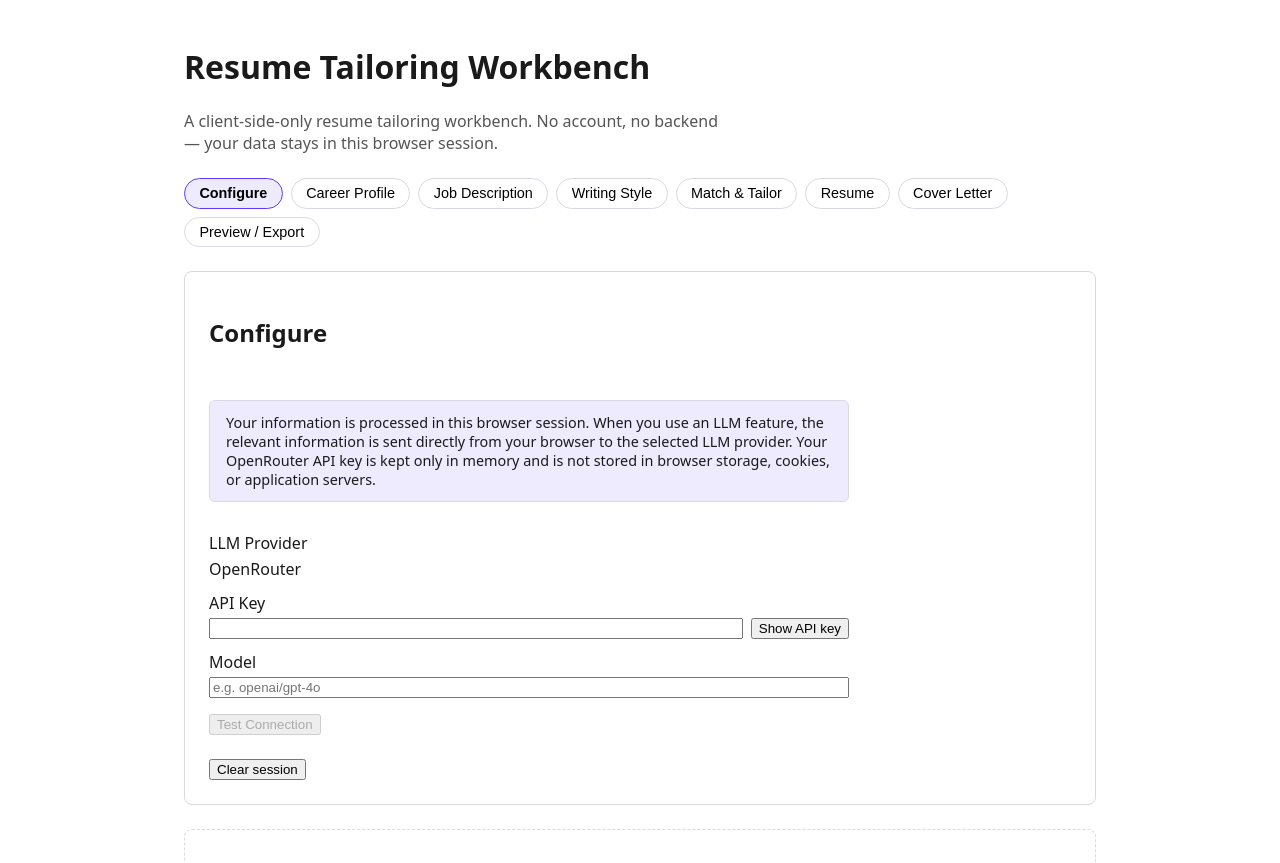
Scenario: Error handling and recovery (Stage 15) › Job Description generation: a network failure shows a useful message and Retry, without an Update API Key action
Click the button "Configure" at (233, 193), box top-left (184, 178), bottom-right (283, 209)
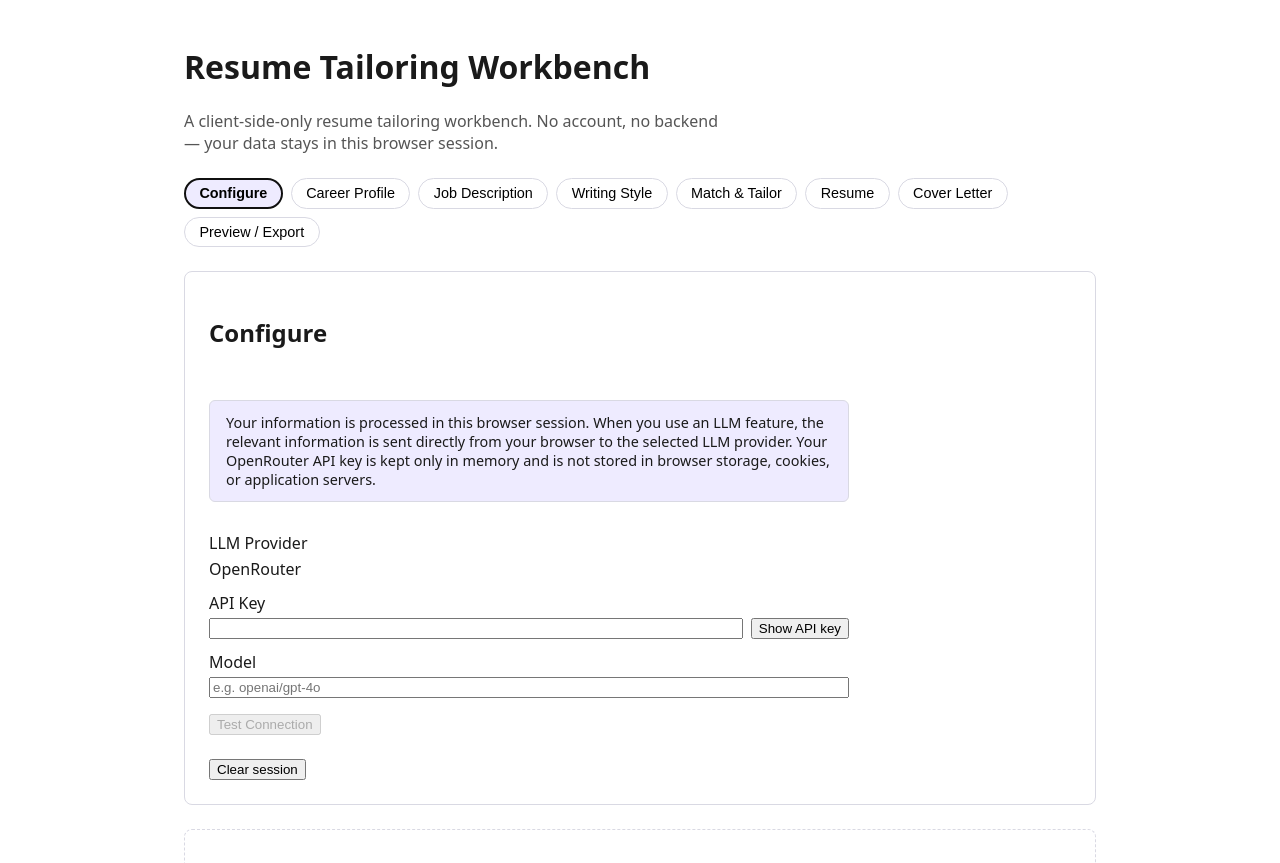
Type "sk-test-super-secret-key-value" into the password field labelled "API Key" at (476, 628), box top-left (209, 618), bottom-right (743, 639)
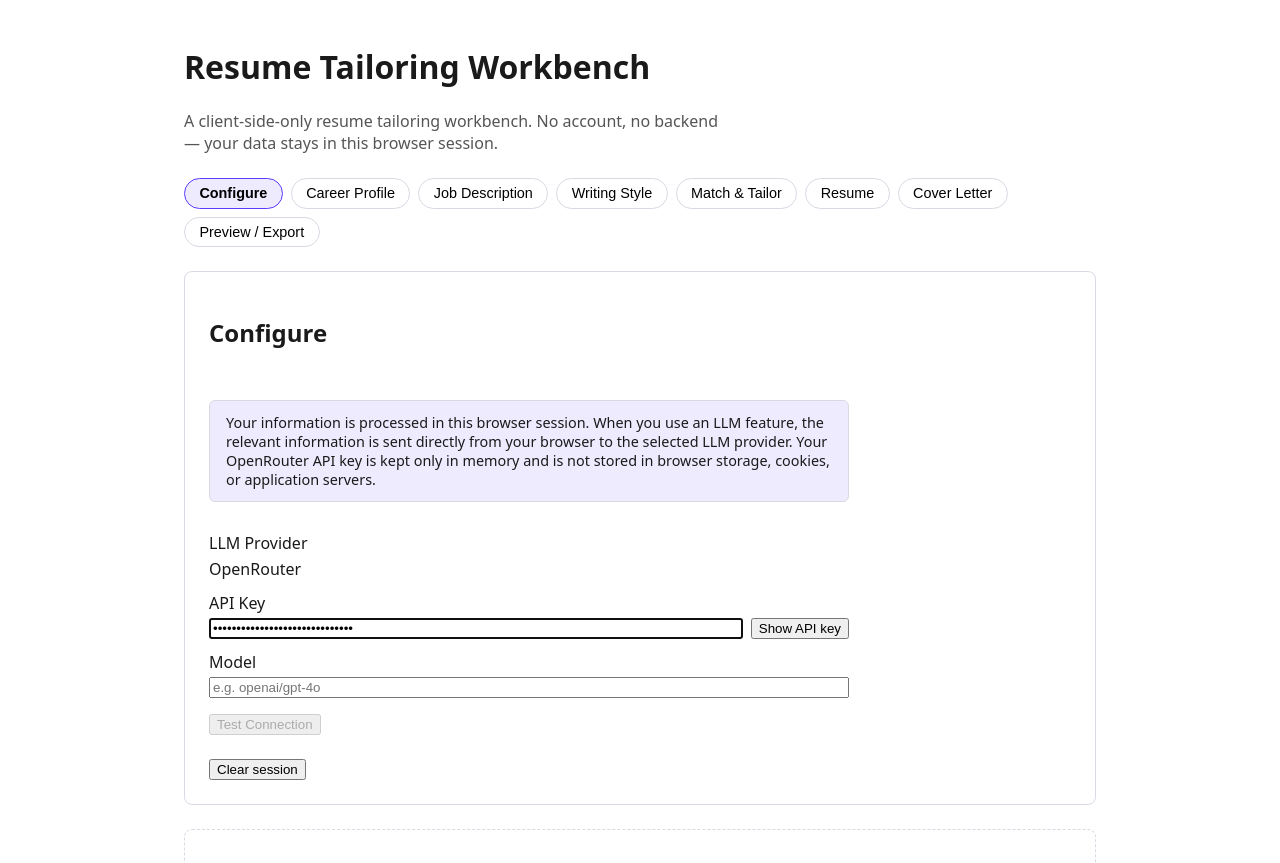
Type "openai/gpt-4o" into the field labelled "Model" at (529, 688), box top-left (209, 677), bottom-right (849, 698)
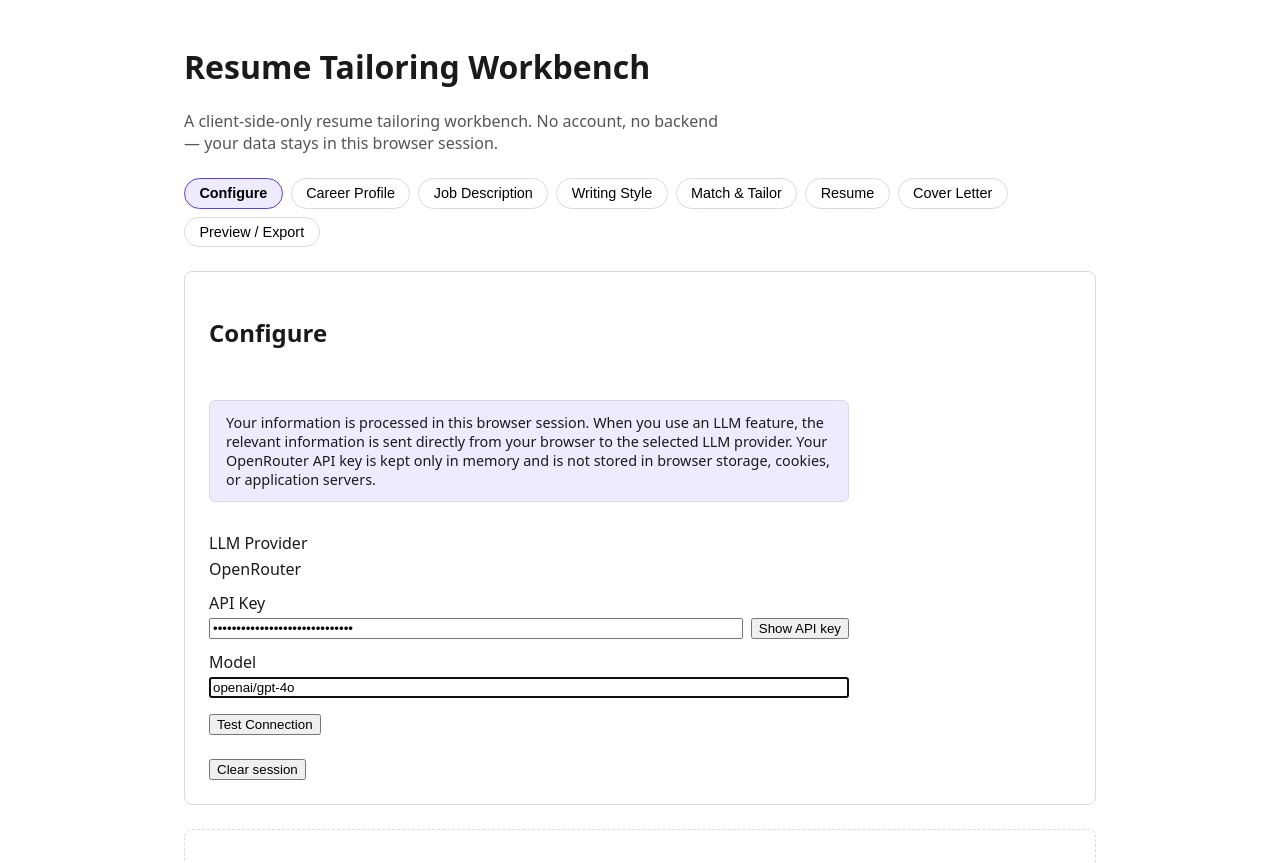
Click the button "Job Description" at (483, 193), box top-left (418, 178), bottom-right (548, 209)
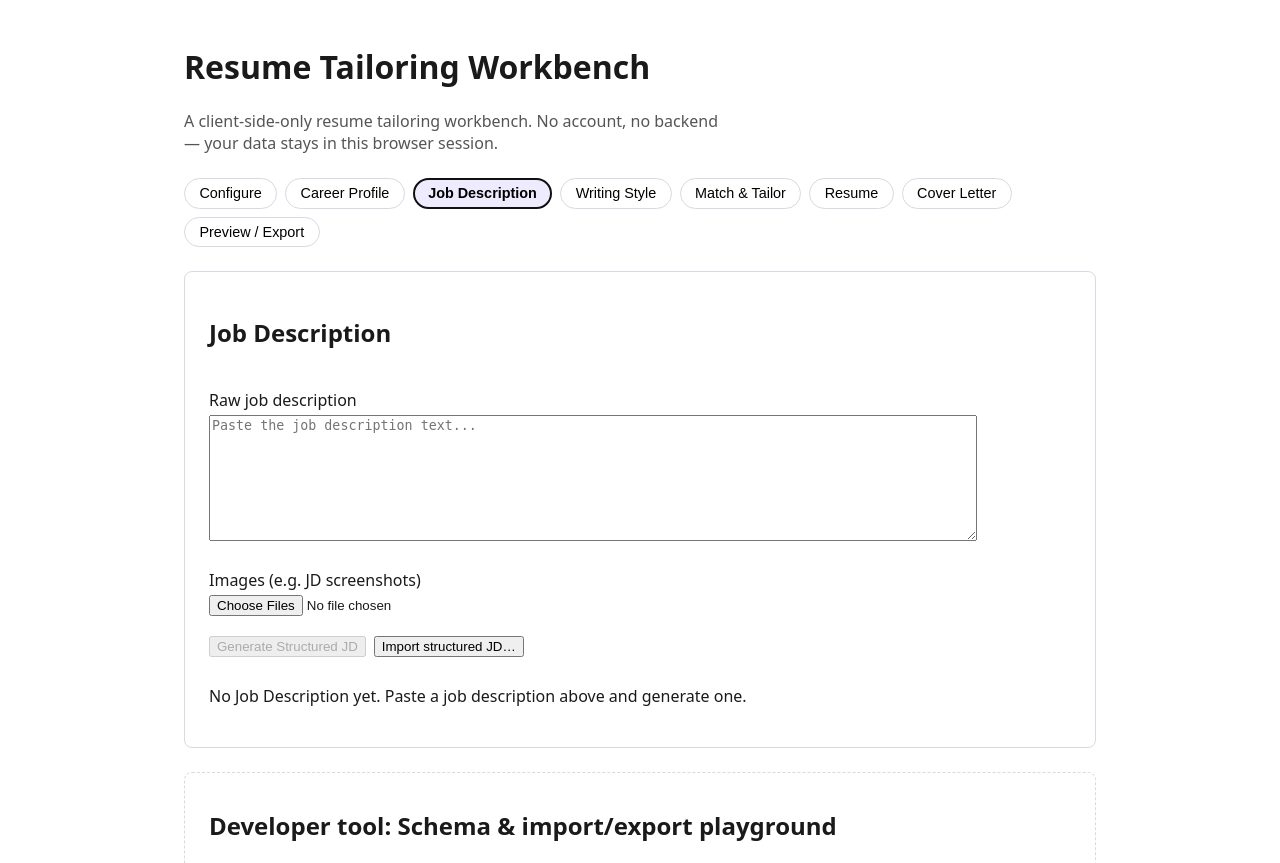
Type "Some JD text." into the text box labelled "Raw job description" at (593, 478), box top-left (209, 415), bottom-right (977, 541)
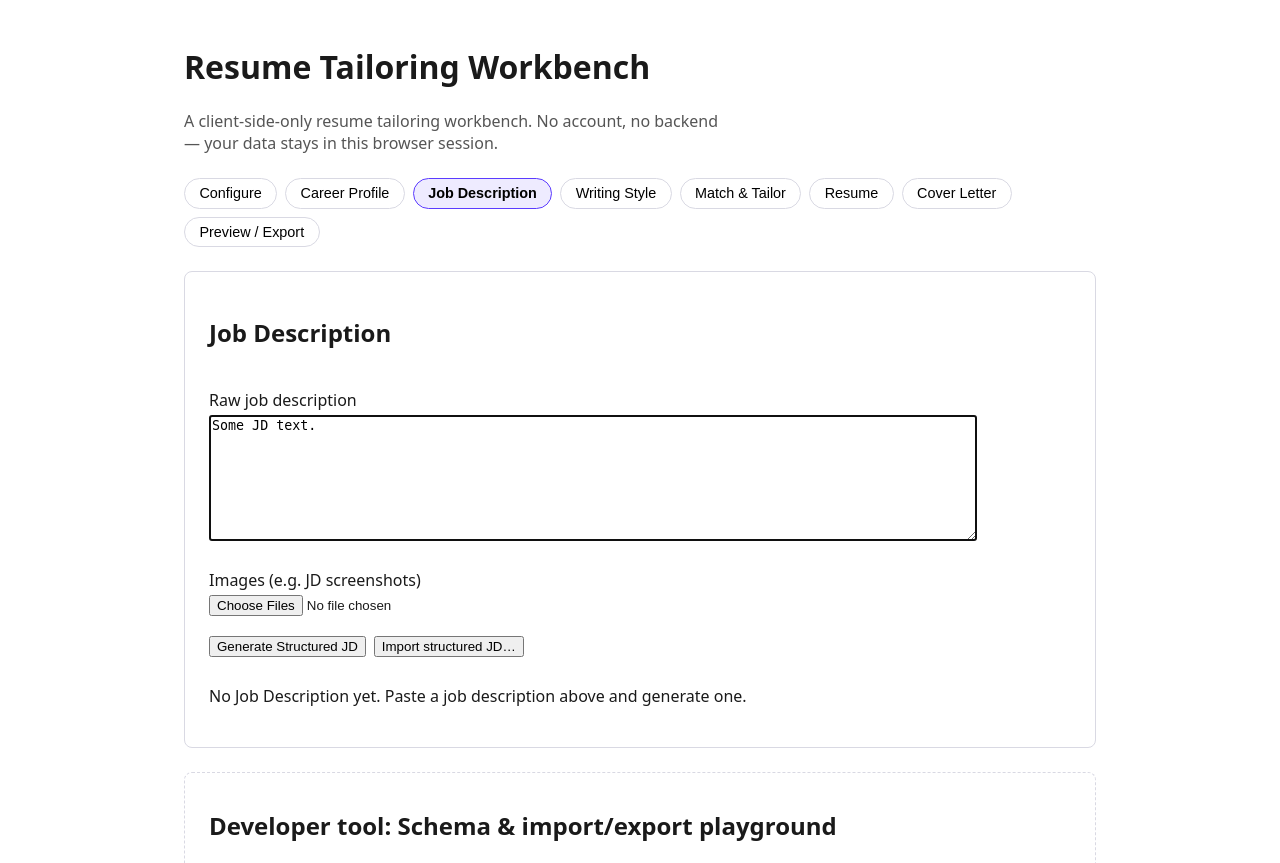
Click the button "Generate Structured JD" at (287, 647), box top-left (209, 636), bottom-right (366, 657)
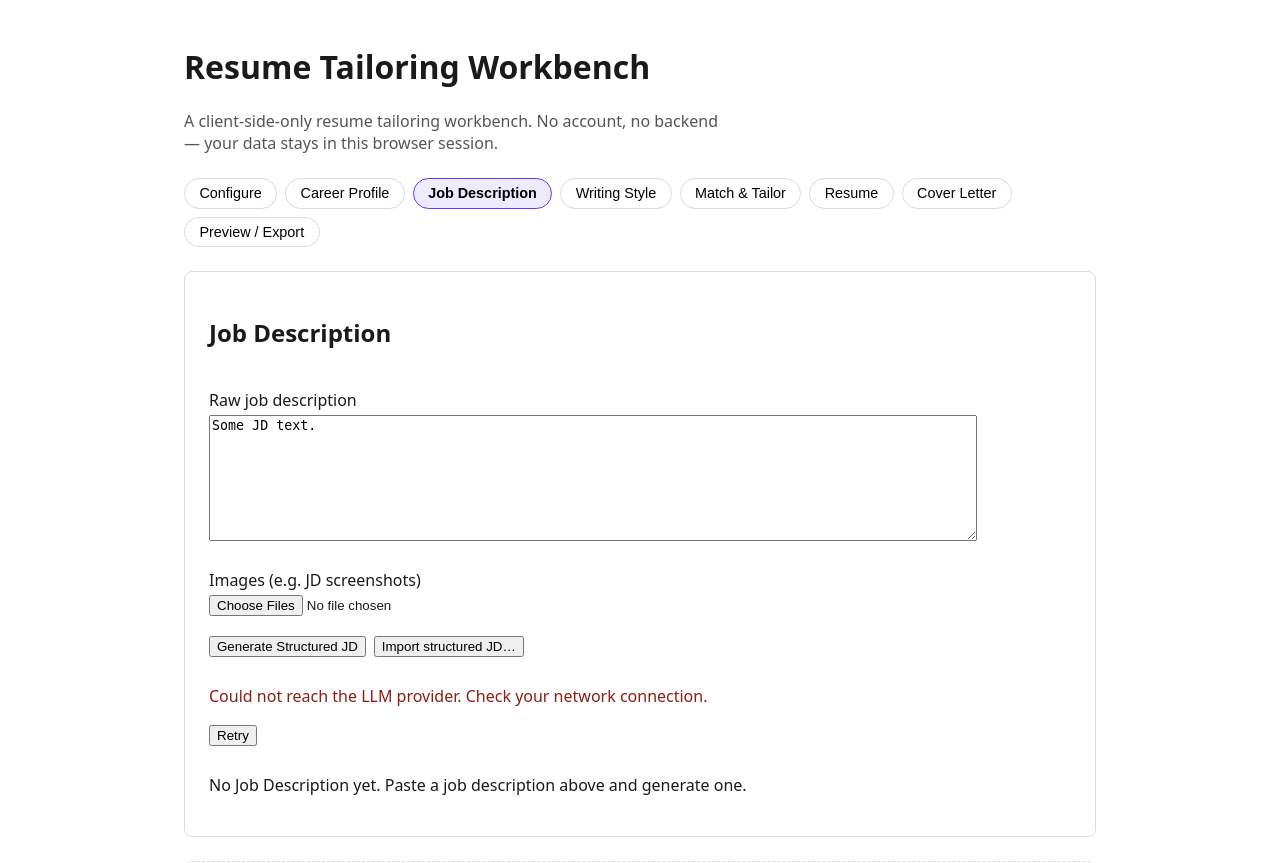
Expected: the message reads "Could not reach the LLM provider. Check your network connection. Retry", top-left (209, 685), bottom-right (708, 707)
Expected: the button "Retry" is shown, top-left (209, 725), bottom-right (257, 746)
